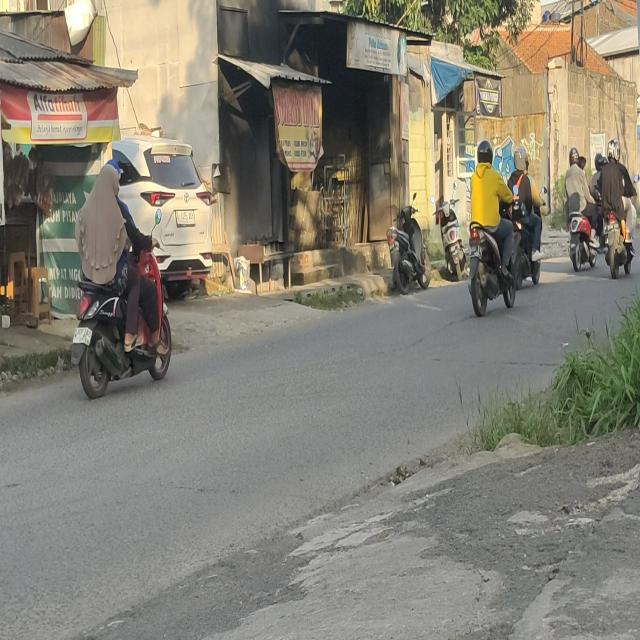helmet: (476, 142, 497, 172), (607, 137, 620, 166), (514, 146, 526, 174), (568, 148, 578, 164), (595, 154, 603, 171)
no-helmet: (102, 165, 119, 196), (108, 158, 122, 178), (578, 156, 590, 172)
